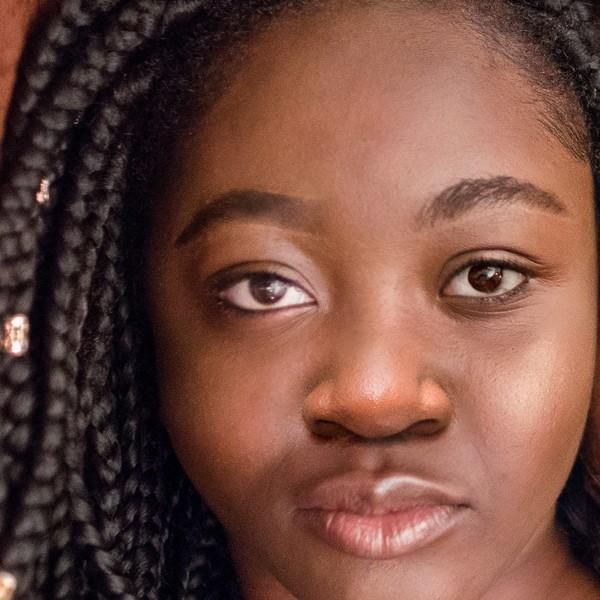Eyes: (192, 242, 336, 338), (419, 232, 553, 326)
